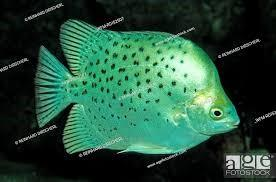Scat Fish: (34, 18, 242, 157)
